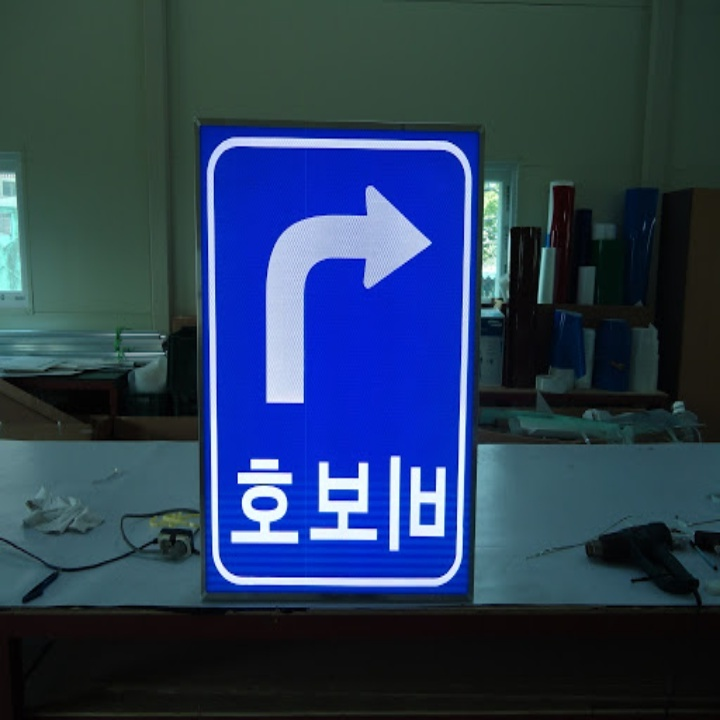right: (246, 174, 438, 410)
